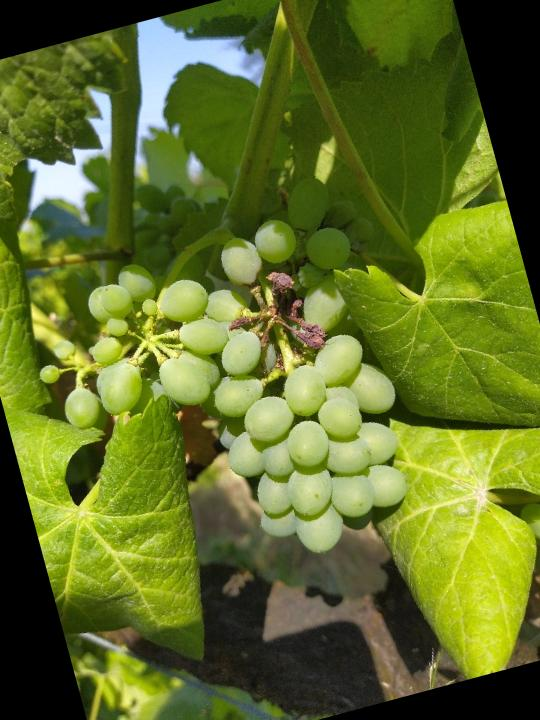grape: (4, 161, 455, 617)
